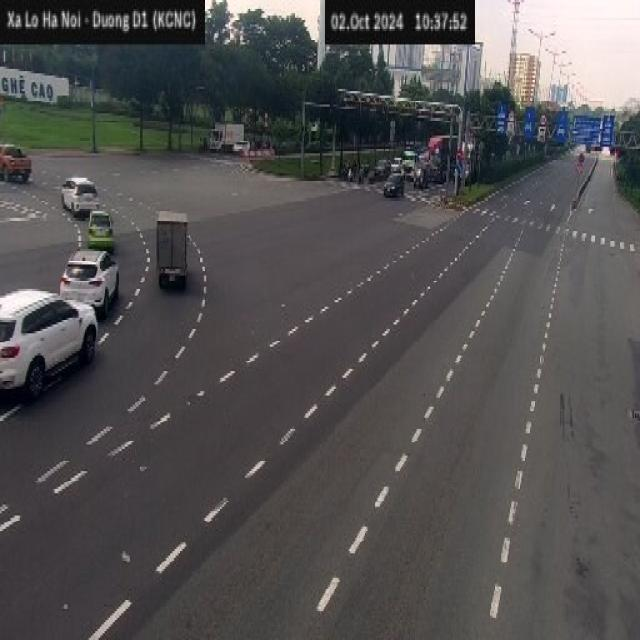car: (0, 290, 100, 408), (59, 246, 119, 318), (60, 176, 100, 216), (0, 142, 31, 182), (86, 209, 114, 251)
truck: (155, 207, 187, 289)
